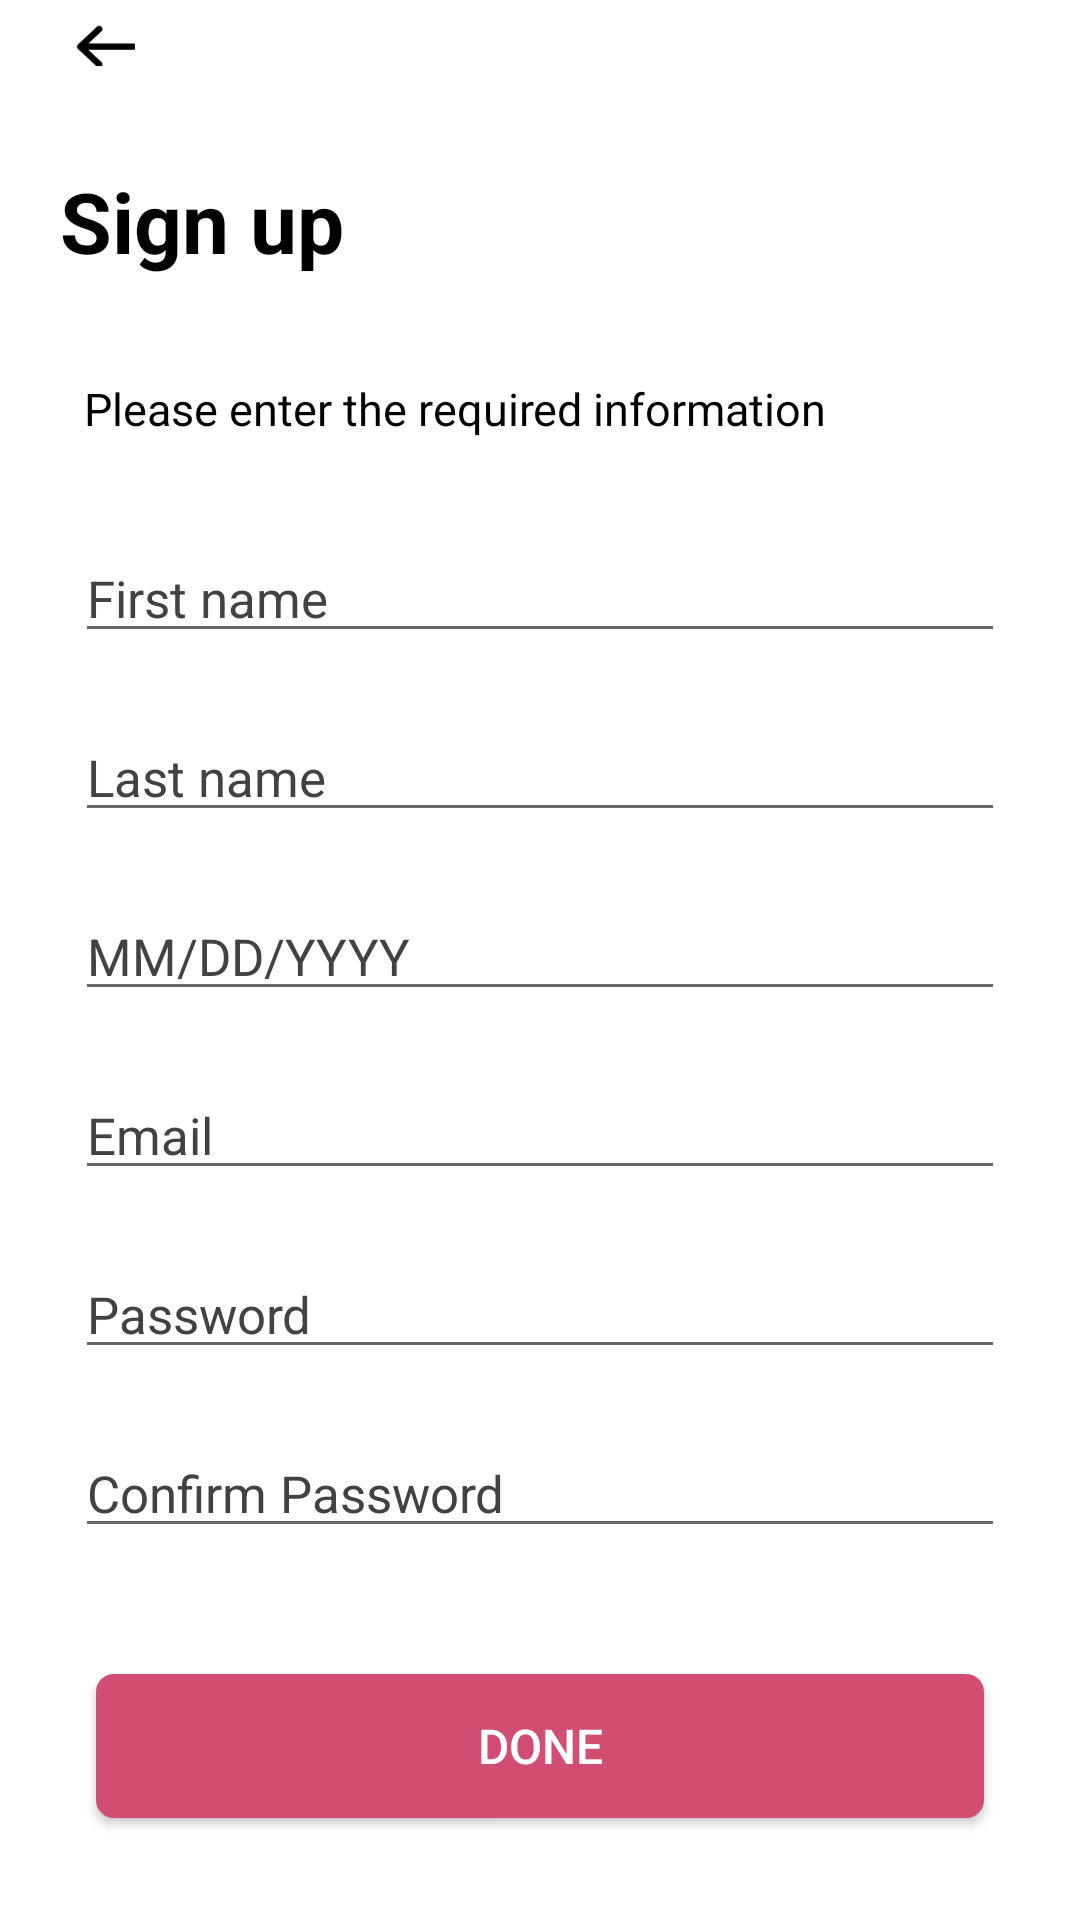

Screen size 1080x1920. Icon name, then its box in pixels as [x1, y1, x2, y2]:
backbtn: [76, 25, 135, 66]
